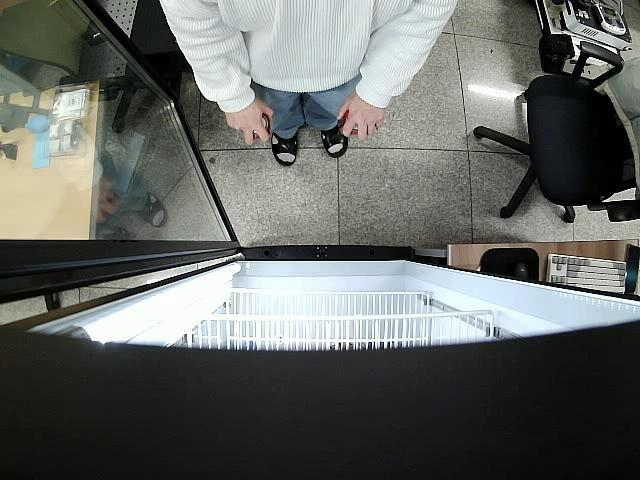11_cocaColaZero: (254, 113, 272, 138), (341, 111, 358, 135)
